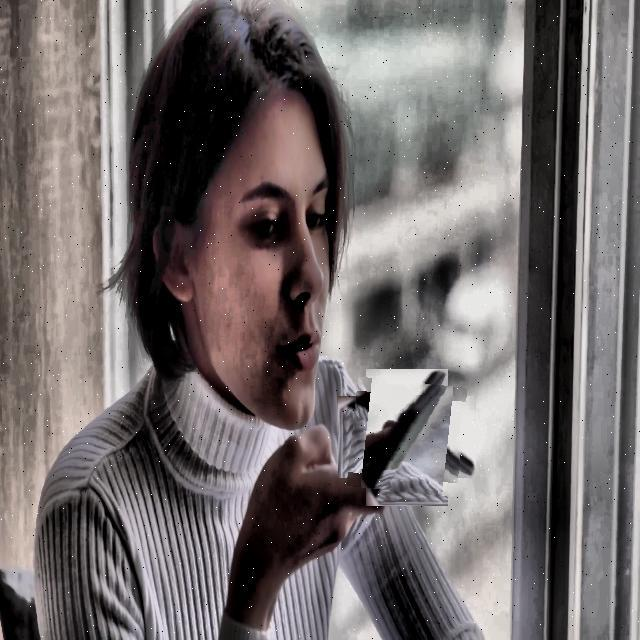Phone: (350, 380, 464, 494)
